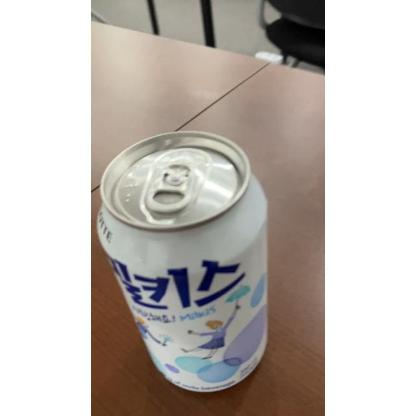Can: (94, 132, 274, 396)
